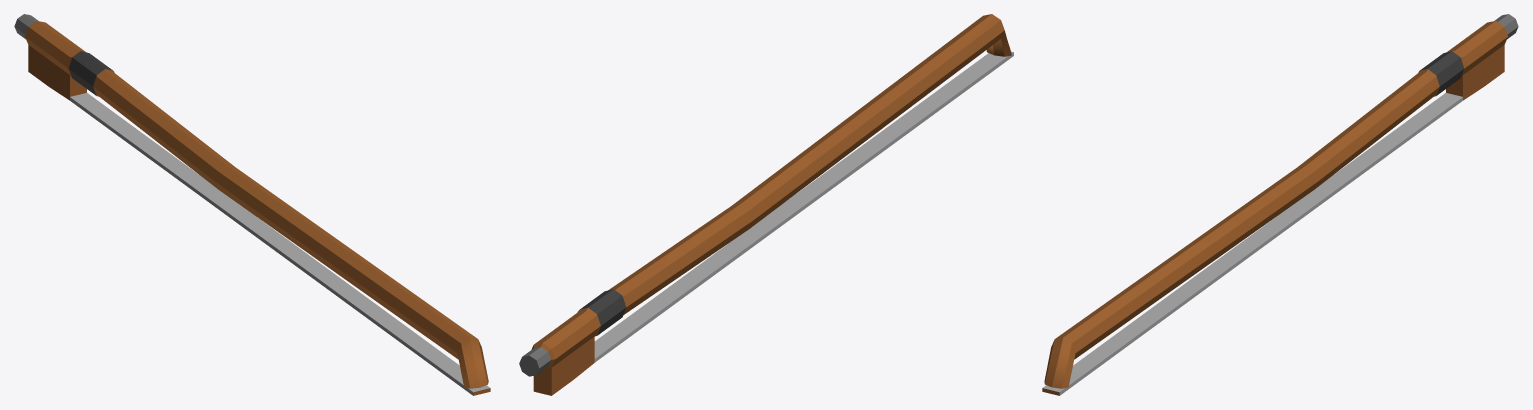
File: FBXViolinBow.fbx
3 renders of one model, left to right at view 1: azimuth 30°, elevation 25°; view 2: azimuth 150°, elevation 25°; view 3: azimuth 330°, elevation 25°, orthographic. The views are drawn at different scales.
Visible parts, largest first — view 1: pCylinder1; view 2: pCylinder1; view 3: pCylinder1.
Part boxes in pixels (x1,y1,x2,y2): pCylinder1: [14, 14, 490, 395]; pCylinder1: [519, 14, 1013, 395]; pCylinder1: [1042, 14, 1518, 395].
Bounding box in the file's own units: 0.1126 × 0.2238 × 3.65.
